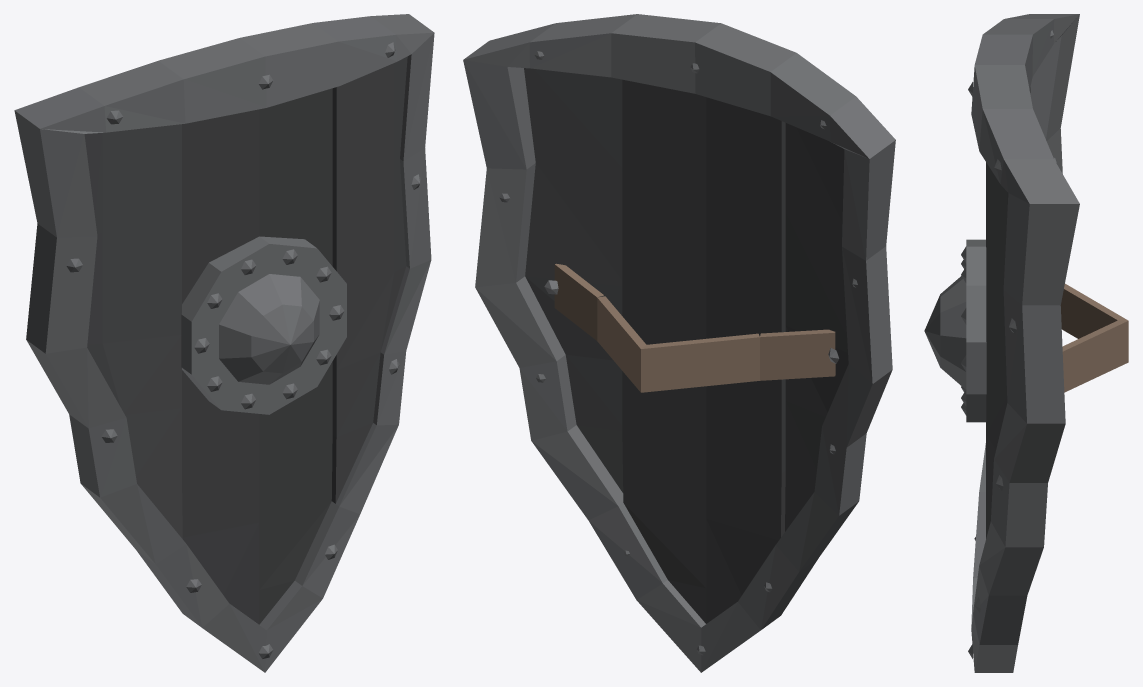
Rendered from heater-shield-c51b76.glb.
3 views of the same model, side by side, from view 1: azimuth 30°, elevation 25°; view 2: azimuth 150°, elevation 25°; view 3: azimuth 270°, elevation 25° (orthographic). The views are drawn at different scales.
Visible parts, largest first — view 1: shield; view 2: shield, strap-band; view 3: shield, strap-band.
Part boxes in pixels (x1,y1,x2,y2): shield: (14,14,434,672); shield: (463,14,895,672); strap-band: (544,263,839,392); shield: (924,14,1079,672); strap-band: (1060,283,1128,392).
Size of the model in its own units: 0.536 by 0.8 by 0.2436.
